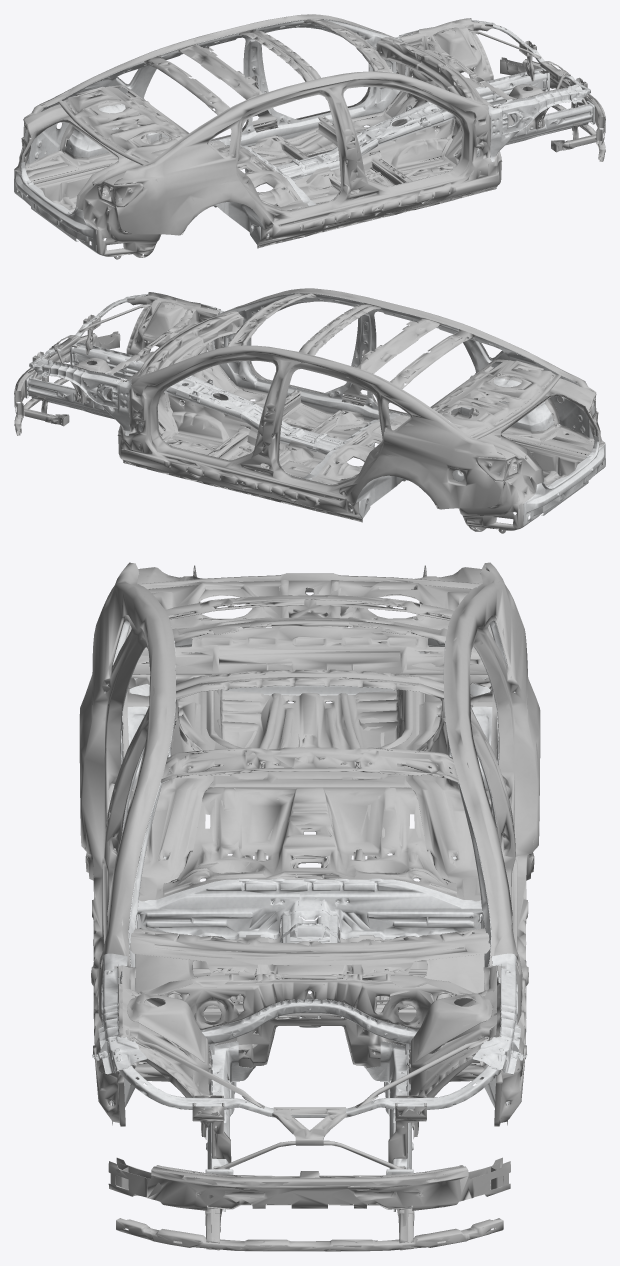
The model's file is body.glb.
The picture shows the model from 3 angles, top to bottom: view 1: azimuth 30°, elevation 25°; view 2: azimuth 150°, elevation 25°; view 3: azimuth 270°, elevation 25°; orthographic projection. The views are drawn at different scales.
Parts seen in each view (by area): view 1: body_01_mesh_00, bodyinside_01_mesh_00; view 2: body_01_mesh_00, bodyinside_01_mesh_00; view 3: body_01_mesh_00, bodyinside_01_mesh_00.
Boxes of the visible parts, box(x1,y1,x2,y2) form: body_01_mesh_00: box(14, 14, 605, 259); bodyinside_01_mesh_00: box(14, 18, 594, 254); body_01_mesh_00: box(14, 288, 605, 533); bodyinside_01_mesh_00: box(25, 292, 605, 528); body_01_mesh_00: box(79, 562, 540, 1251); bodyinside_01_mesh_00: box(92, 571, 527, 1211).
Size of the model in its own units: 4.93 by 1.32 by 1.84.
Materials: 2 (2 with a texture image).
